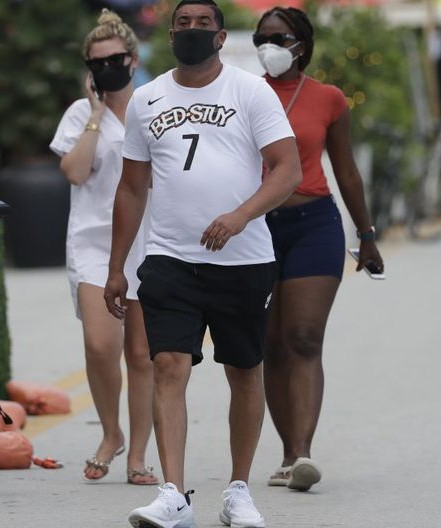with_mask: (253, 5, 313, 83), (79, 25, 145, 91), (166, 6, 228, 68)
